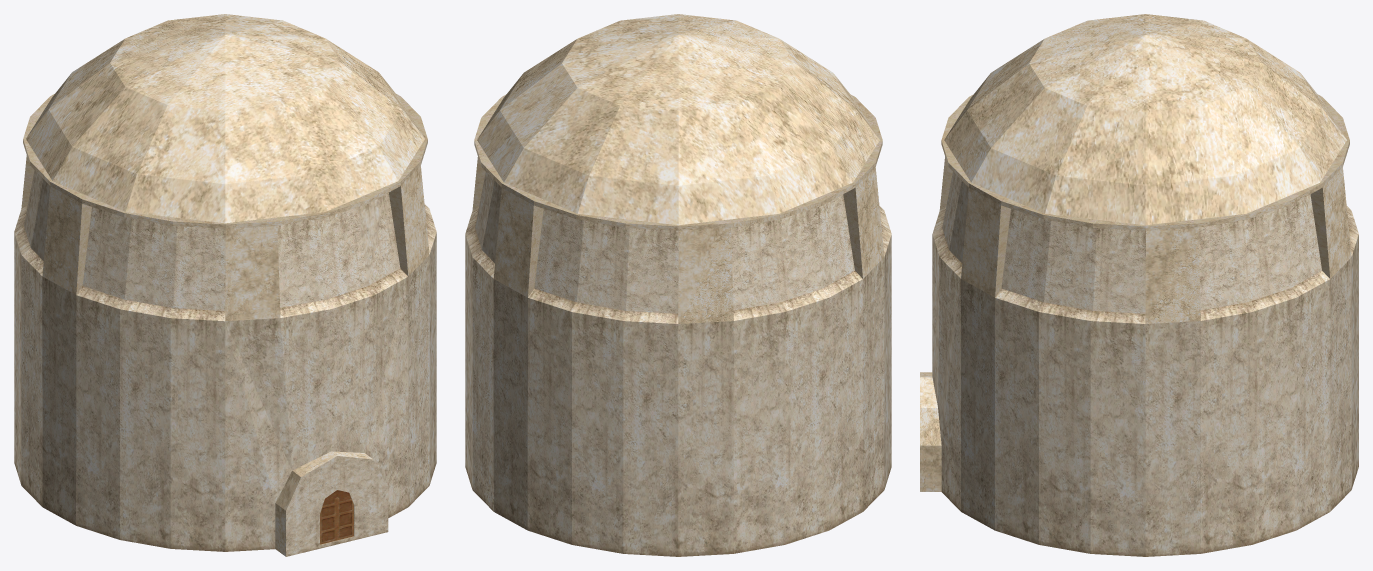
The model's file is thm_tato_imprv_building_s08_l1.fbx.
The picture shows the model from 3 angles, left to right: view 1: azimuth 30°, elevation 25°; view 2: azimuth 150°, elevation 25°; view 3: azimuth 270°, elevation 25°; orthographic projection.
Visible parts, largest first — view 1: mesh_node; view 2: mesh_node; view 3: mesh_node.
Part boxes in pixels (bbox=[...]): mesh_node: bbox=[14, 14, 436, 556]; mesh_node: bbox=[465, 14, 891, 556]; mesh_node: bbox=[920, 14, 1358, 556].
Size of the model in its own units: 23.13 by 25.85 by 23.8.
